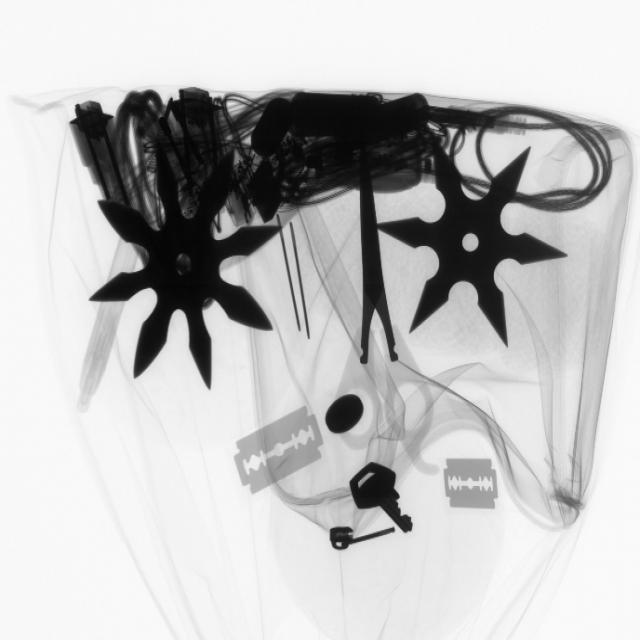BLADE: (228, 403, 328, 503), (437, 447, 505, 518)
SHURIKEN: (88, 139, 280, 399), (384, 139, 561, 352)
